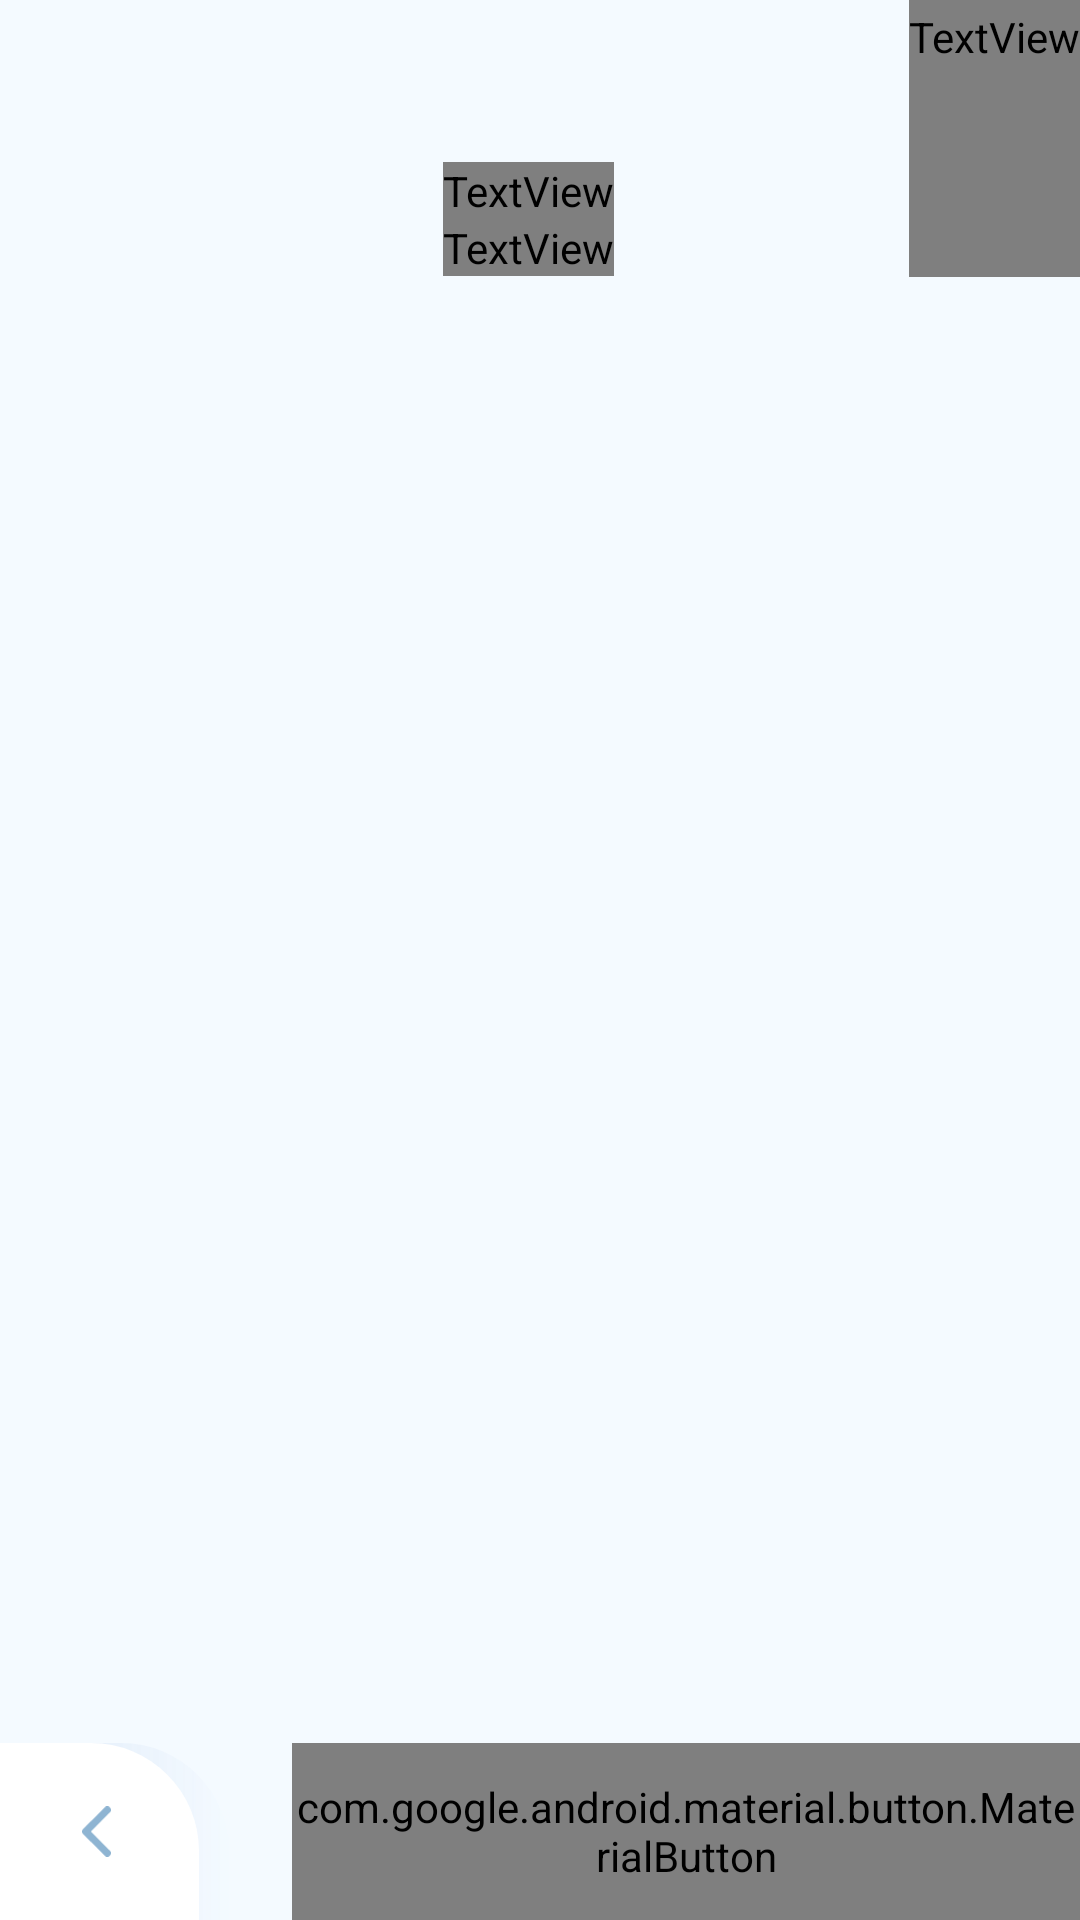

Icon click points for this 1080x1920 phone screenshot, format point (x, y):
chevron left: point (96, 1831)
